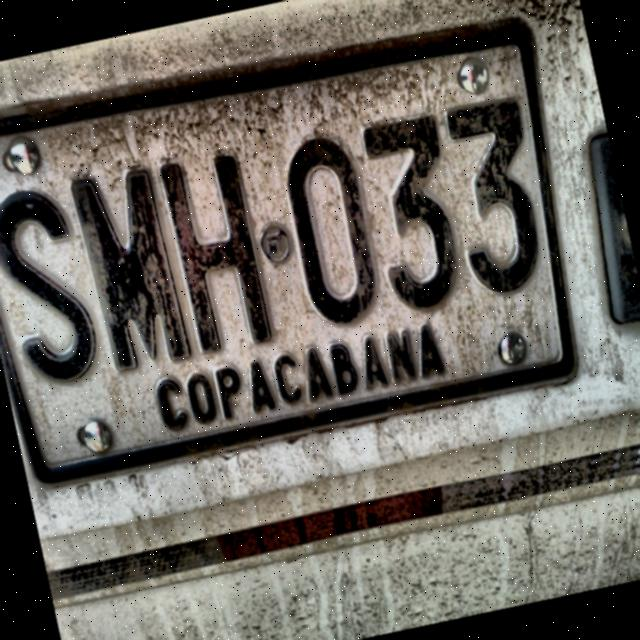plate: (0, 15, 579, 490)
